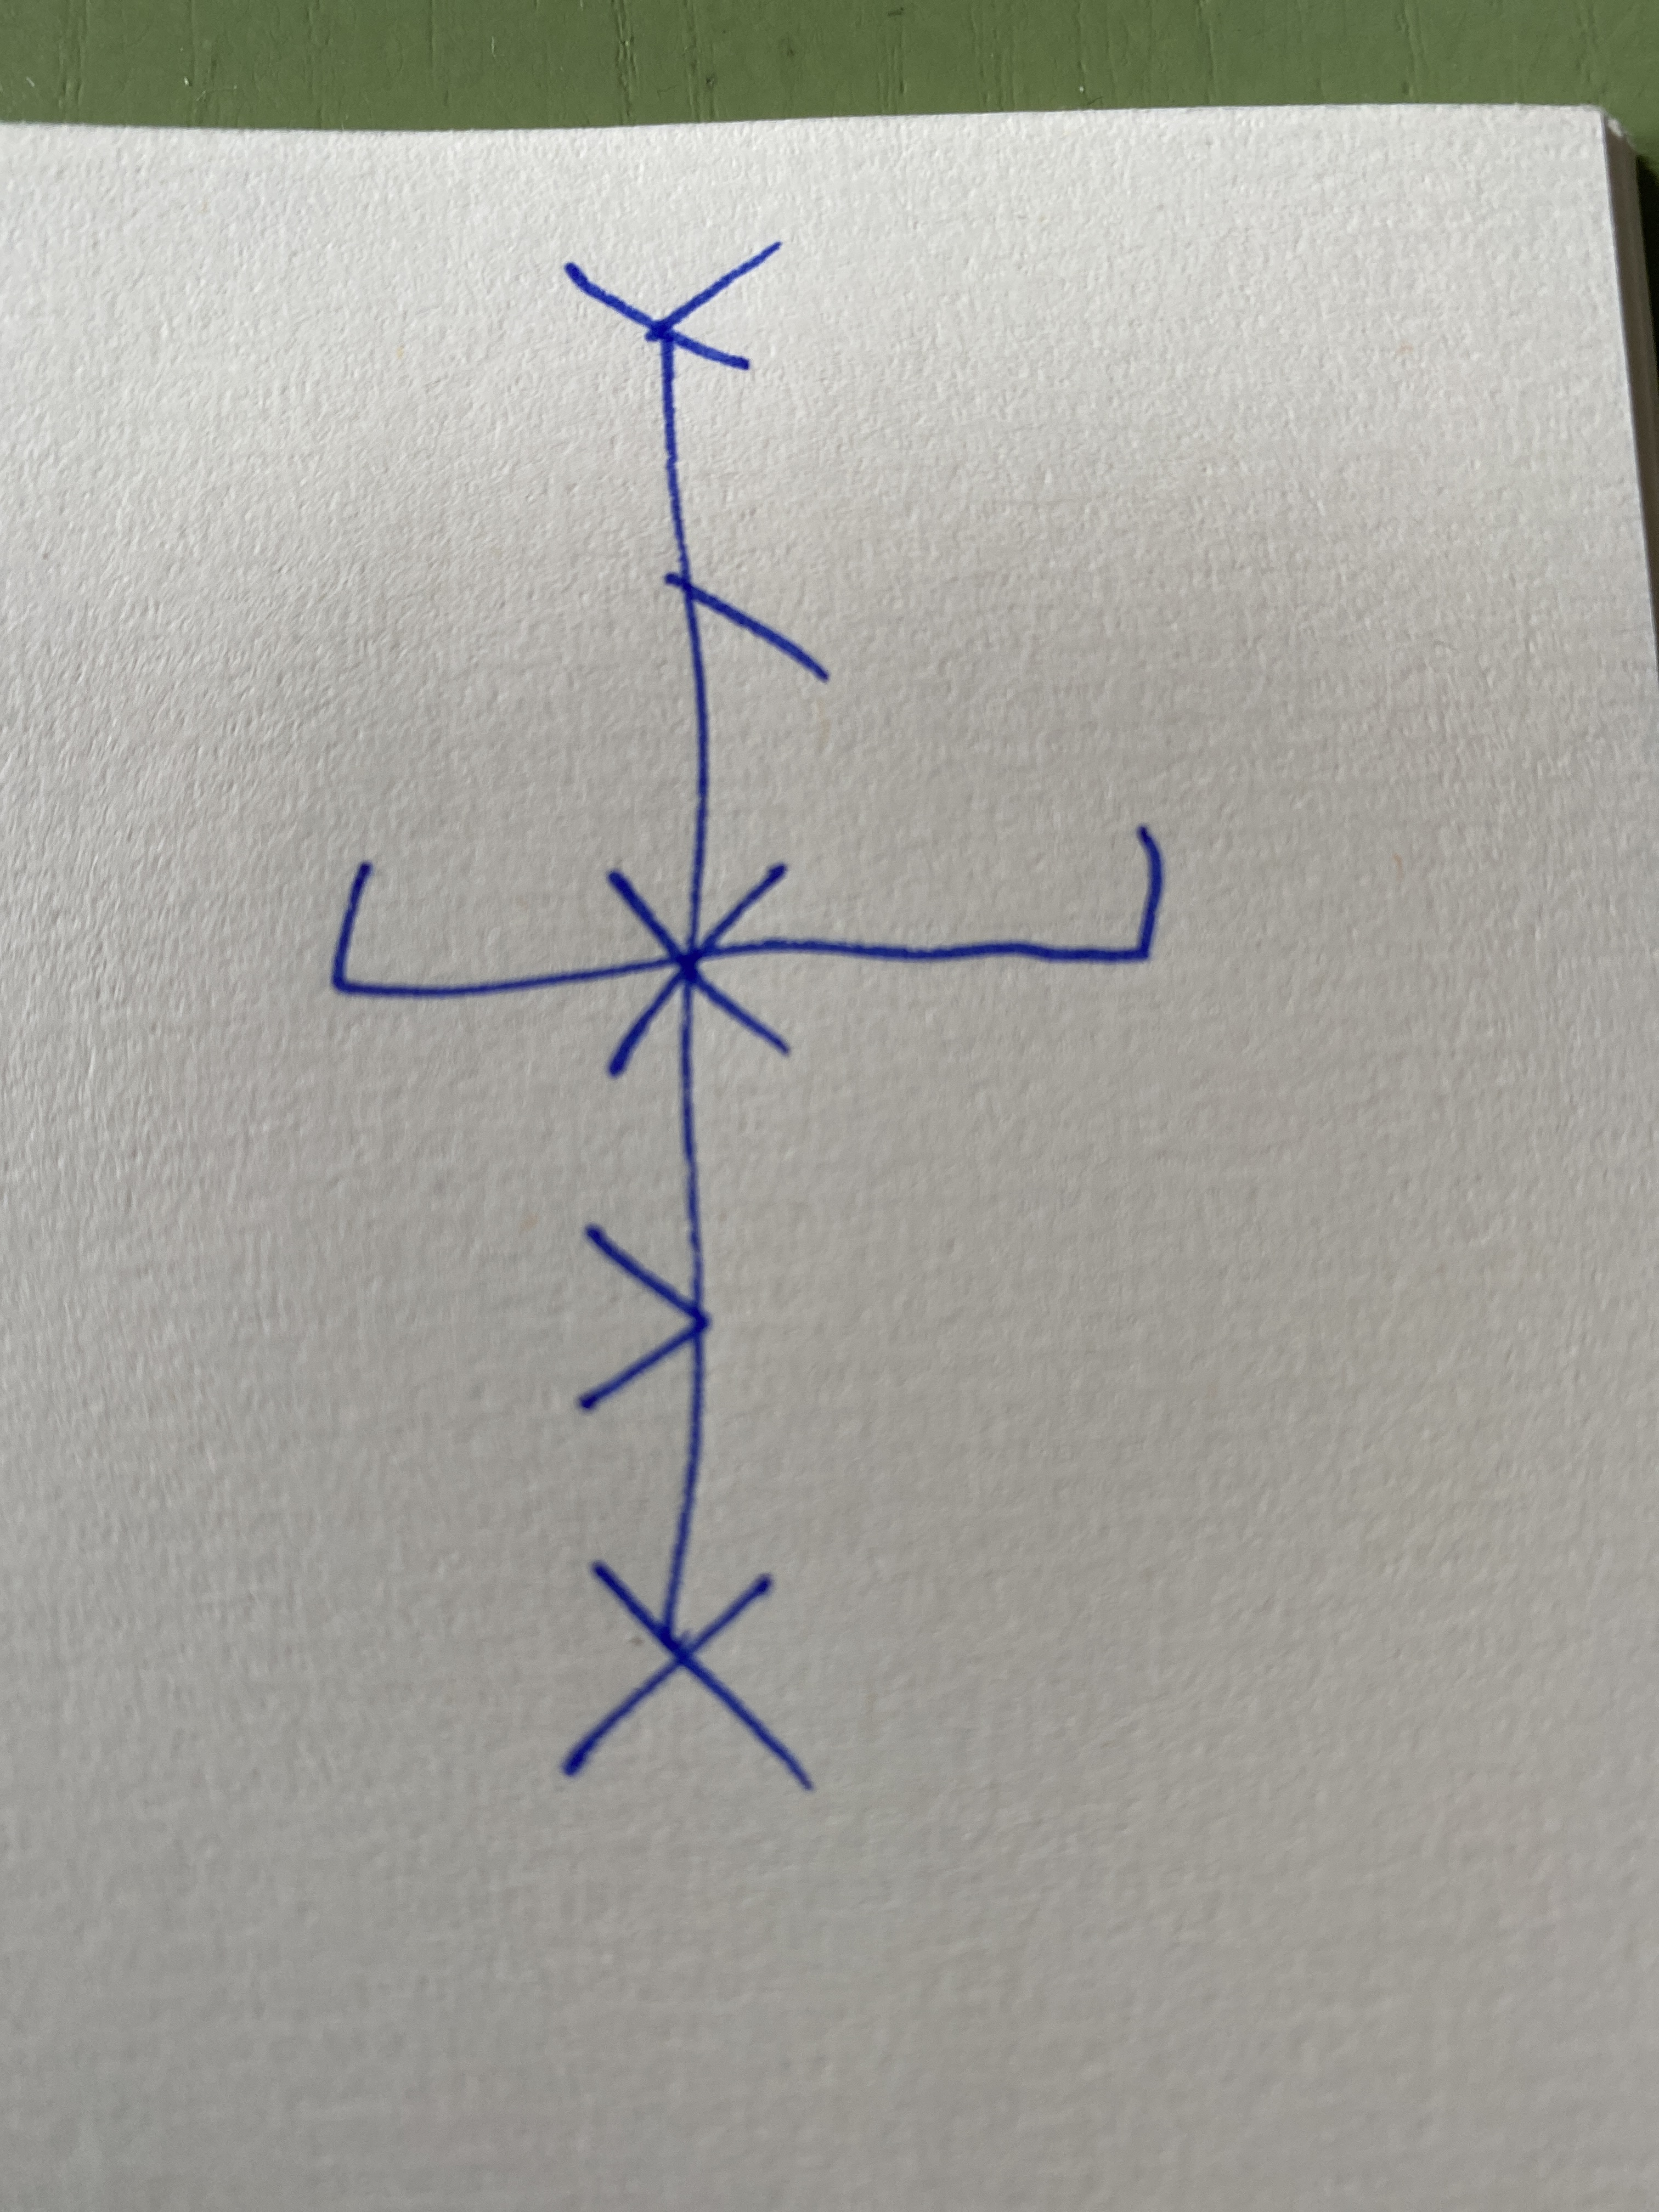Bar: (559, 242, 833, 1794)
Barcode: (331, 242, 1166, 1794)
End: (791, 822, 1166, 968)
Start: (333, 862, 606, 1001)
